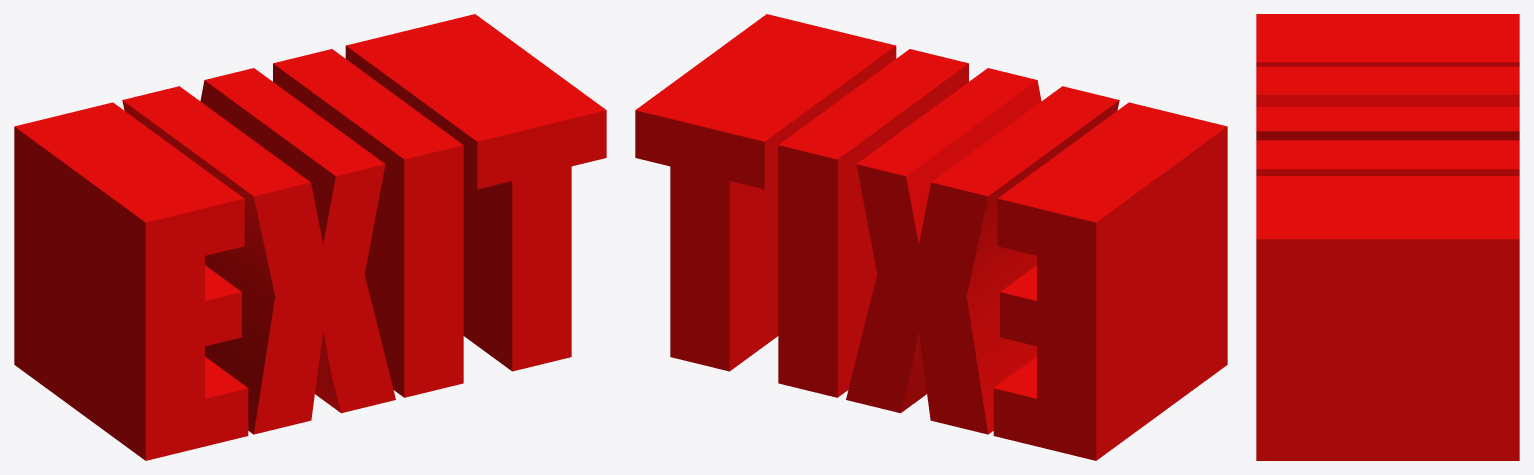
File: EXIT.dae
The picture shows the model from 3 angles, left to right: view 1: azimuth 30°, elevation 25°; view 2: azimuth 150°, elevation 25°; view 3: azimuth 270°, elevation 25°; orthographic projection.
Visible parts, largest first — view 1: EXIT; view 2: EXIT; view 3: EXIT.
Boxes of the visible parts, left/top/right/bottom form: EXIT: left=14, top=14, right=606, bottom=460; EXIT: left=635, top=14, right=1227, bottom=460; EXIT: left=1256, top=14, right=1519, bottom=460.
Bounding box in the file's own units: 16 × 7.9 × 7.9.
